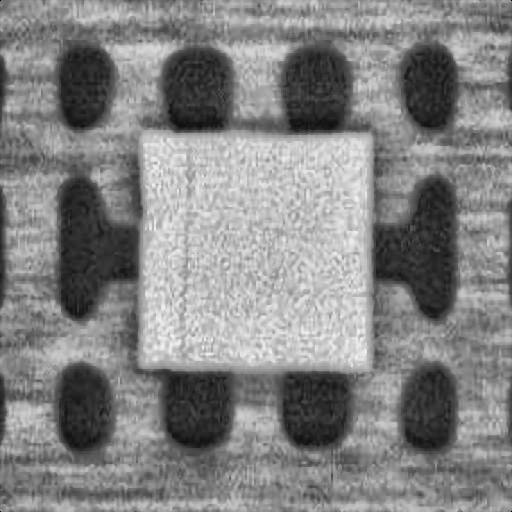DIE_CRACK: (177, 136, 190, 364)
